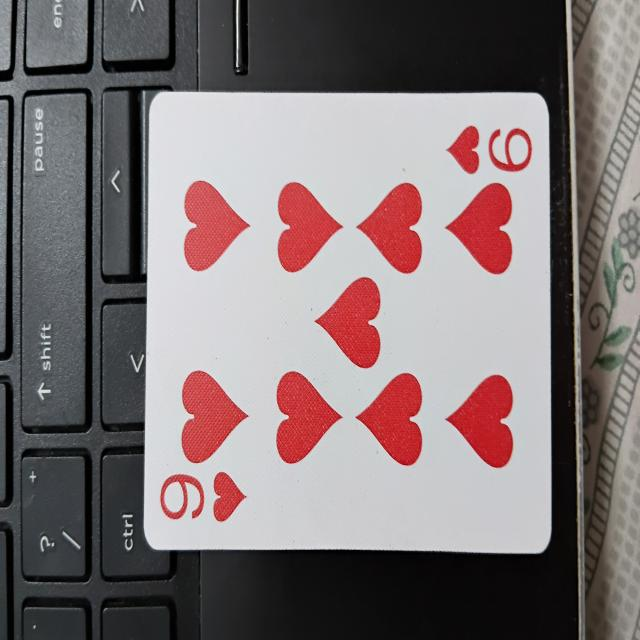9H: (149, 88, 552, 552)
